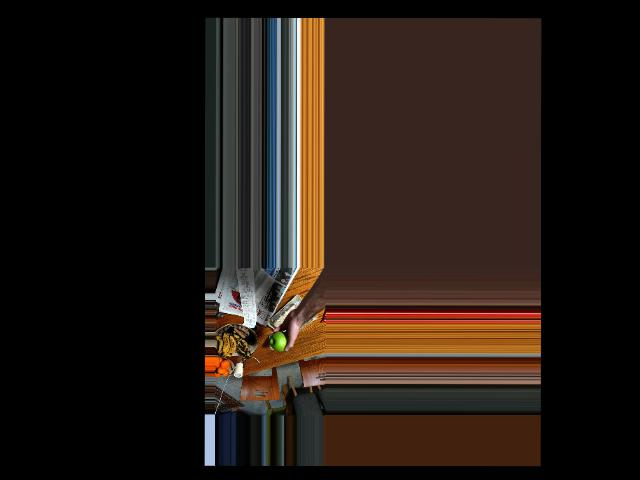apple: (270, 329, 290, 352)
